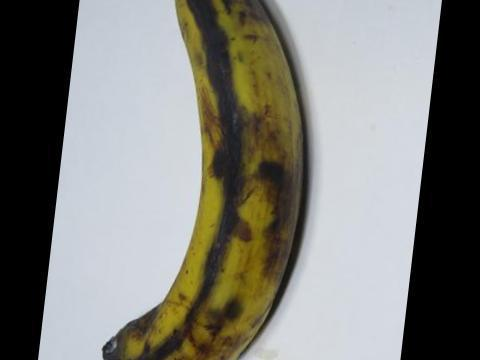overripe: (126, 0, 318, 358)
rotten: (85, 300, 198, 359)
